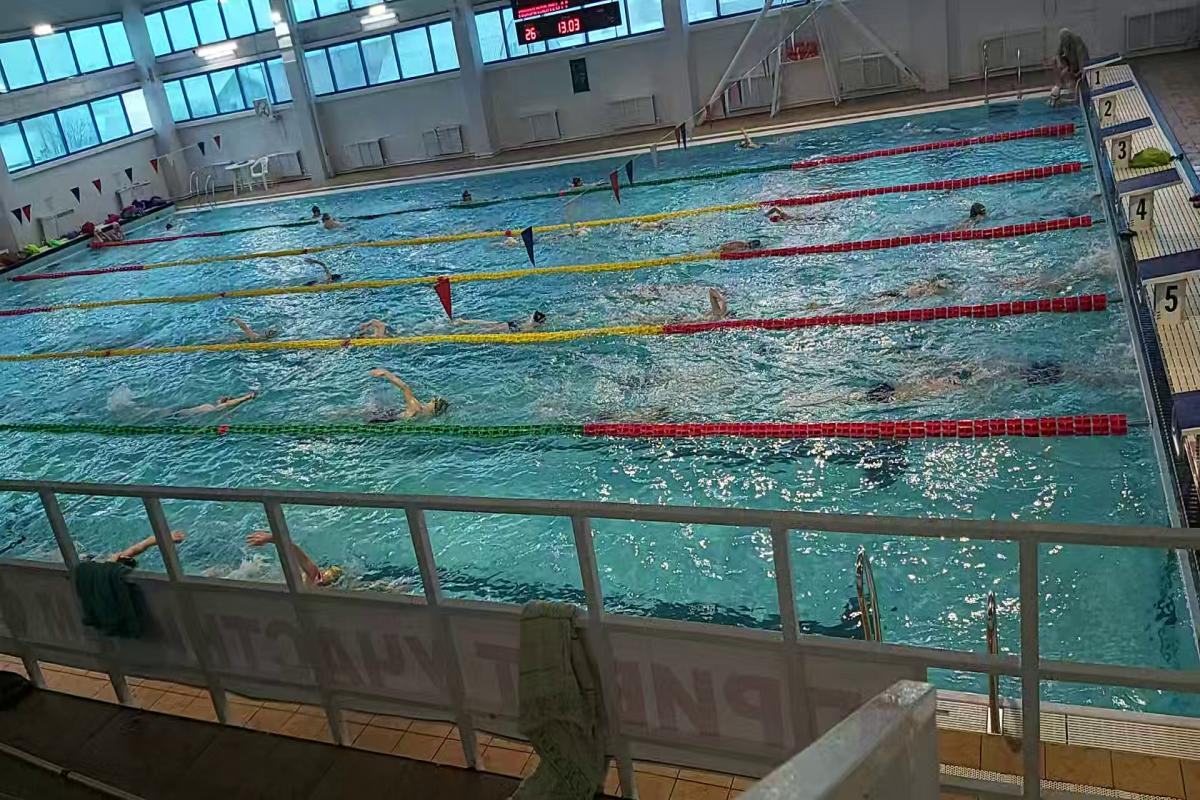swimmer: (243, 524, 359, 594), (358, 365, 460, 426), (79, 524, 186, 570), (464, 295, 560, 336), (183, 382, 272, 418), (760, 196, 834, 230), (294, 255, 364, 288), (228, 312, 295, 343), (708, 224, 766, 256), (352, 313, 410, 340), (954, 194, 996, 225), (319, 209, 349, 237)
